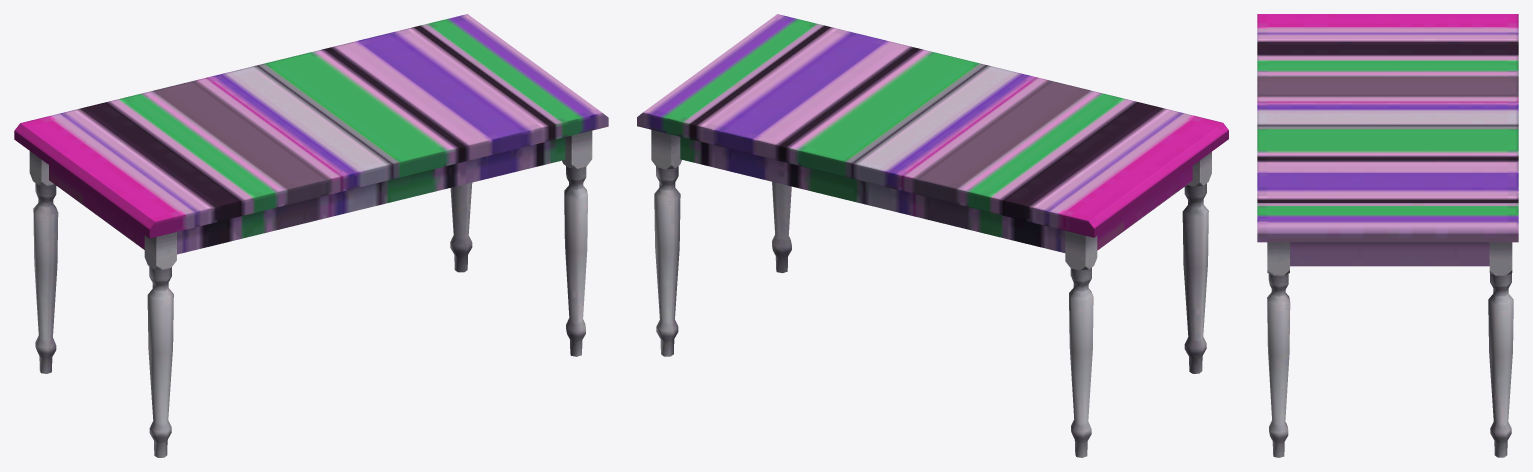
Rendered from furni_0200606_02.FBX.
3 renders of one model, left to right at view 1: azimuth 30°, elevation 25°; view 2: azimuth 150°, elevation 25°; view 3: azimuth 270°, elevation 25°, orthographic. The views are drawn at different scales.
Parts seen in each view (by area): view 1: furni_0200606_02; view 2: furni_0200606_02; view 3: furni_0200606_02.
Boxes of the visible parts, x1,y1,x2,y2 form: furni_0200606_02: (14, 14, 608, 457); furni_0200606_02: (637, 14, 1228, 457); furni_0200606_02: (1257, 14, 1518, 457).
Size of the model in its own units: 157 by 80.16 by 80.
1 material, 1 textured.
